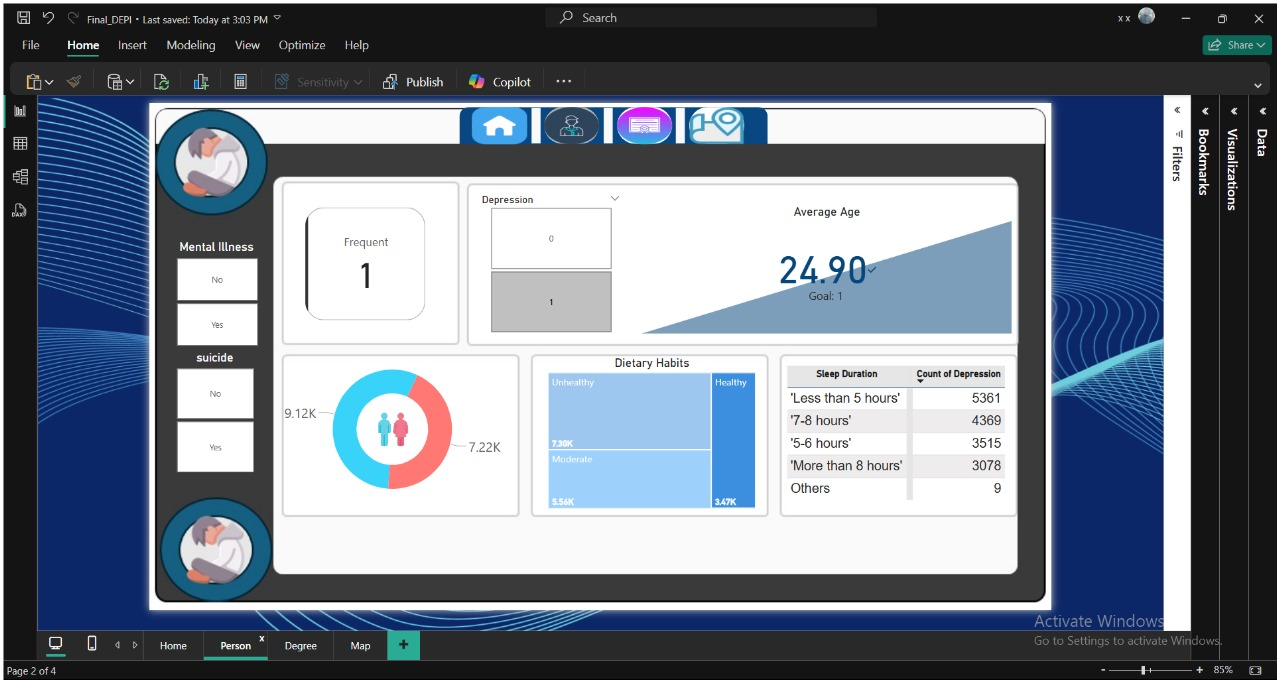

Layout of this report page (visuals, bound fields, positions):
{"tool":"powerbi","page":{"name":"Person","canvas":[1280,720],"ordinal":1},"visuals":[{"type":"cardVisual","fields":{"Data":["Final_dep_stud (2).Most Frequent Value"]},"box":[216,143.6,180.4,170.6],"z":0},{"type":"kpi","title":"Average Age ","fields":{"Indicator":["Avg(Final_dep_stud (2).Age)"],"TrendLine":["Final_dep_stud (2).Gender"],"Goal":["Final_dep_stud (2).Most Frequent Value"]},"box":[694.5,143.6,535,189],"z":1000},{"type":"donutChart","fields":{"Category":["Final_dep_stud (2).Gender"],"Y":["CountNonNull(Final_dep_stud (2).Depression)"]},"box":[181.6,341.1,327.6,244.2],"z":2000},{"type":"image","box":[319.6,431.9,52.1,63.1],"z":3000},{"type":"slicer","title":"suicide","fields":{"Values":["Final_dep_stud (2).Have you ever had suicidal thoughts ?"]},"box":[13.5,350.9,159.5,180.4],"z":4000},{"type":"slicer","title":"               Mental Illness","fields":{"Values":["Final_dep_stud (2).Mental Illness"]},"box":[13.5,193.9,164.4,157.1],"z":5000},{"type":"tableEx","fields":{"Values":["Final_dep_stud (2).Sleep Duration","CountNonNull(Final_dep_stud (2).Depression)"]},"box":[899.4,368.1,330.1,212.3],"z":6000},{"type":"slicer","fields":{"Values":["Final_dep_stud (2).Depression"]},"box":[458.9,123.9,220.9,208.6],"z":7000},{"type":"treemap","title":"Dietary Habits","fields":{"Values":["CountNonNull(Final_dep_stud (2).Depression)"],"Group":["Final_dep_stud (2).Dietary Habits"]},"box":[560.7,358.3,304.3,222.1],"z":8000},{"type":"shape","box":[440,6.2,437.5,52.5],"z":8001},{"type":"shape","box":[542.5,7.5,12.5,50],"z":8002},{"type":"actionButton","box":[663.8,6.2,78.8,52.5],"z":8003},{"type":"actionButton","box":[457.5,6.2,78.8,52.5],"z":8004},{"type":"actionButton","box":[766.2,5.9,78.8,52.5],"z":8005},{"type":"actionButton","box":[560,6.2,78.8,52.5],"z":8006},{"type":"shape","box":[645,7.5,12.5,50],"z":8007},{"type":"shape","box":[747.5,7.5,12.5,50],"z":8008}]}

Visuals, with their boxes on the page's 1280x720 design canvas (x1, y1, x2, y2). These are canvas units, not pixel positions in the 1280x683 screenshot, which may show the page scaled, cropped or inside an application window:
cardVisual - Final_dep_stud (2).Most Frequent Value: detection(216, 144, 396, 314)
"Average Age " kpi: detection(694, 144, 1230, 333)
donutChart - Final_dep_stud (2).Gender x CountNonNull(Final_dep_stud (2).Depression): detection(182, 341, 509, 585)
image: detection(320, 432, 372, 495)
"suicide" slicer: detection(14, 351, 173, 531)
"               Mental Illness" slicer: detection(14, 194, 178, 351)
tableEx - Final_dep_stud (2).Sleep Duration x CountNonNull(Final_dep_stud (2).Depression): detection(899, 368, 1230, 580)
slicer - Final_dep_stud (2).Depression: detection(459, 124, 680, 332)
"Dietary Habits" treemap: detection(561, 358, 865, 580)
shape: detection(440, 6, 878, 59)
shape: detection(542, 8, 555, 58)
actionButton: detection(664, 6, 743, 59)
actionButton: detection(458, 6, 536, 59)
actionButton: detection(766, 6, 845, 58)
actionButton: detection(560, 6, 639, 59)
shape: detection(645, 8, 658, 58)
shape: detection(748, 8, 760, 58)
